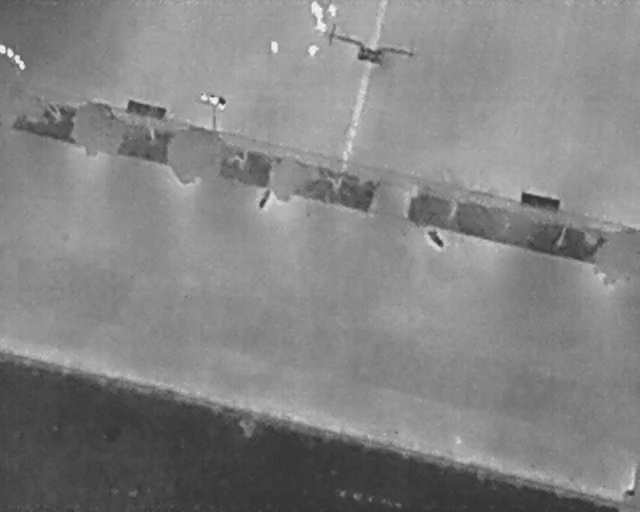Person: (307, 45, 320, 57), (314, 22, 328, 32), (315, 6, 324, 21), (270, 41, 279, 55), (328, 3, 337, 17), (311, 1, 319, 15)
